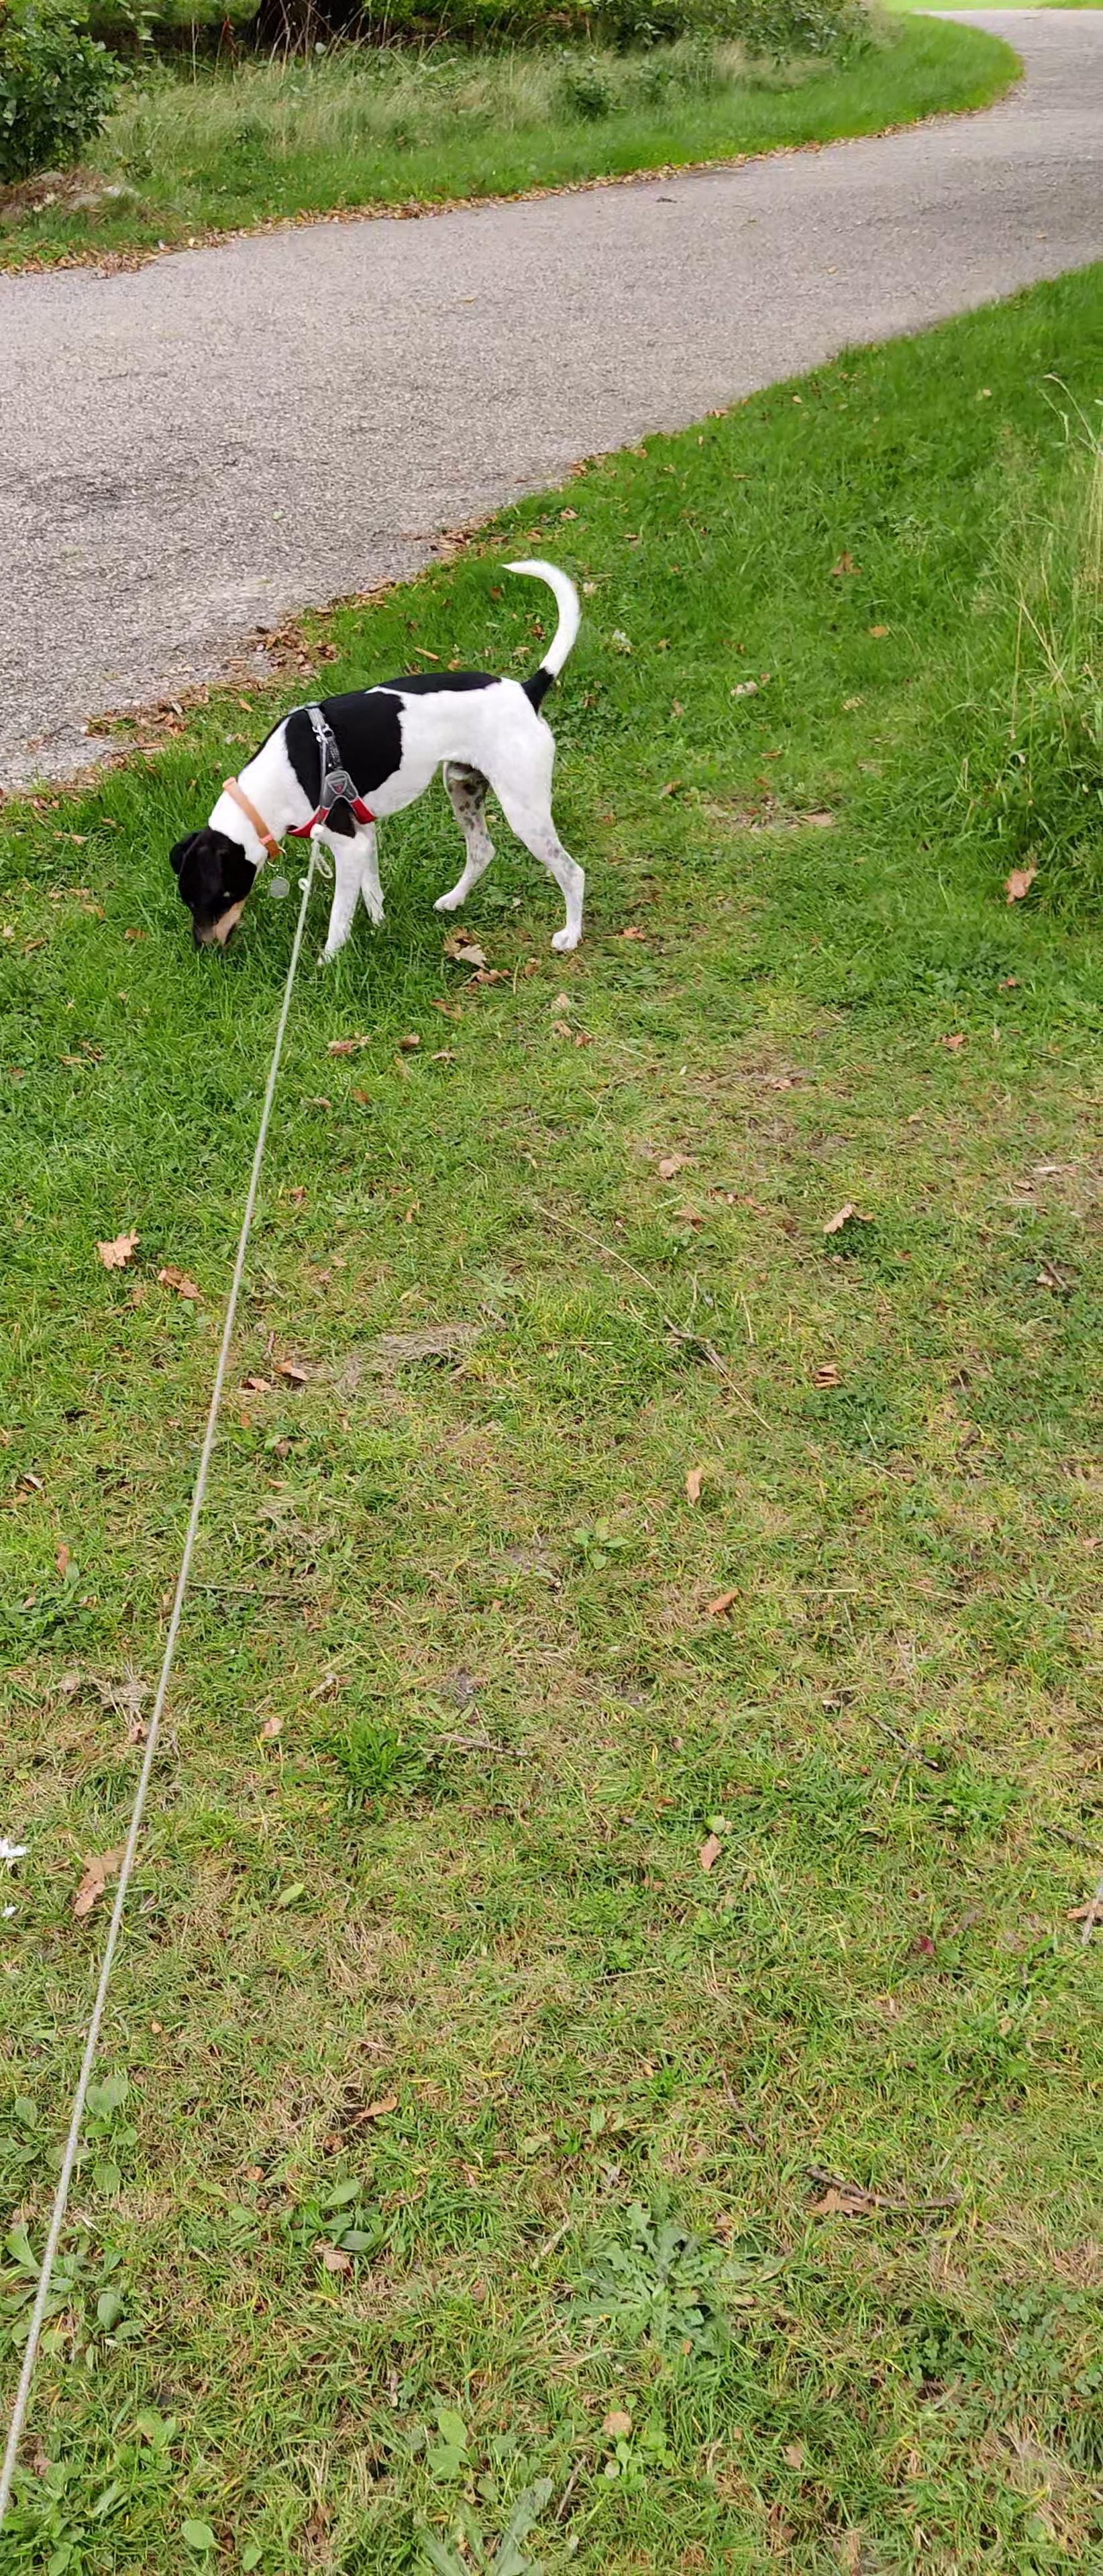Dog: (159, 552, 593, 971)
